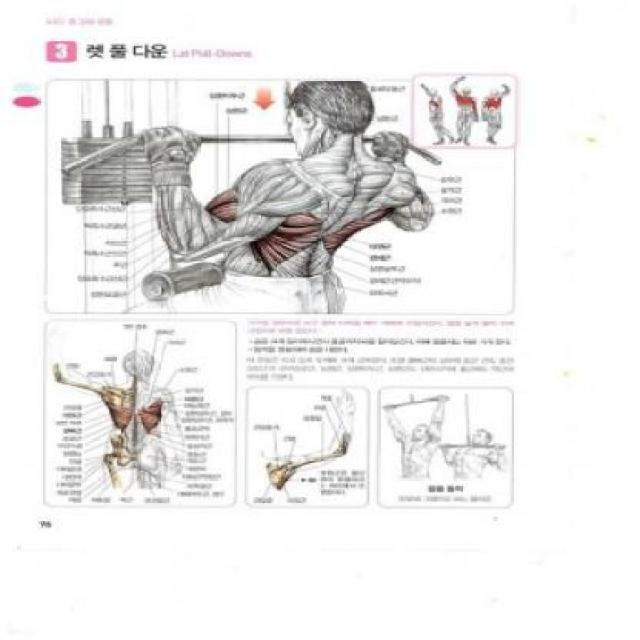Lat Pull Down: (49, 62, 463, 310)
